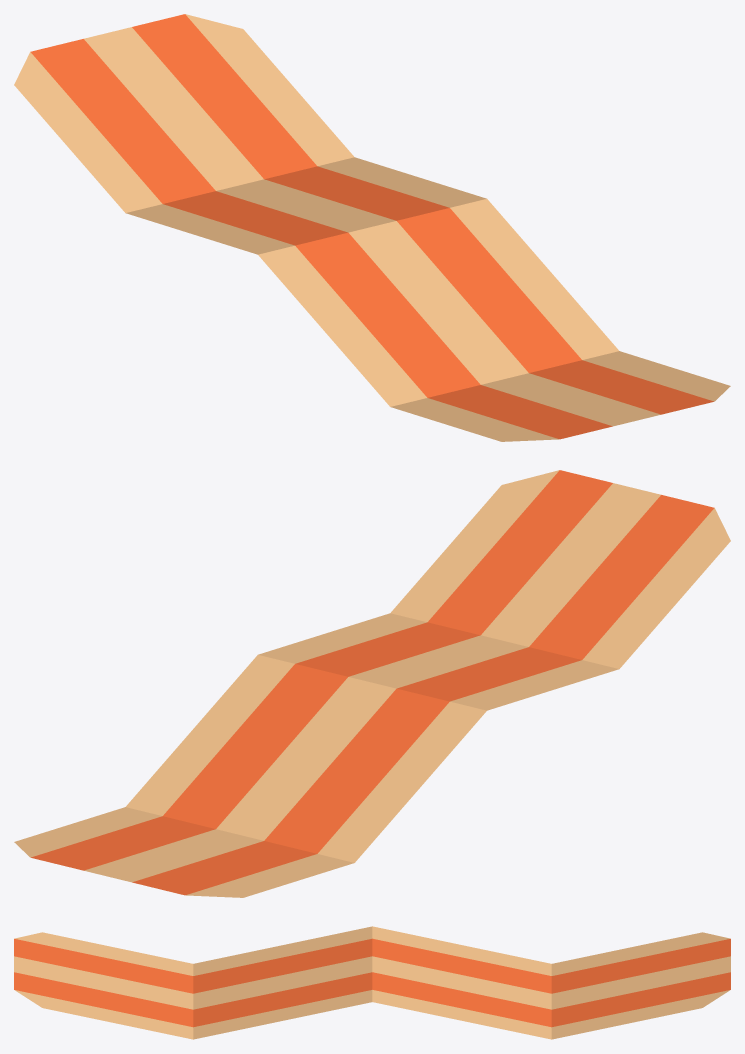
File: baconRaw.obj
3 renders of one model, top to bottom at view 1: azimuth 30°, elevation 25°; view 2: azimuth 150°, elevation 25°; view 3: azimuth 270°, elevation 25°, orthographic. The views are drawn at different scales.
Visible parts, largest first — view 1: baconRaw; view 2: baconRaw; view 3: baconRaw.
Part boxes in pixels (bbox=[...]): baconRaw: bbox=[14, 14, 730, 441]; baconRaw: bbox=[14, 470, 730, 897]; baconRaw: bbox=[14, 926, 730, 1039].
Bounding box in the file's own units: 0.13 × 0.03 × 0.52.
